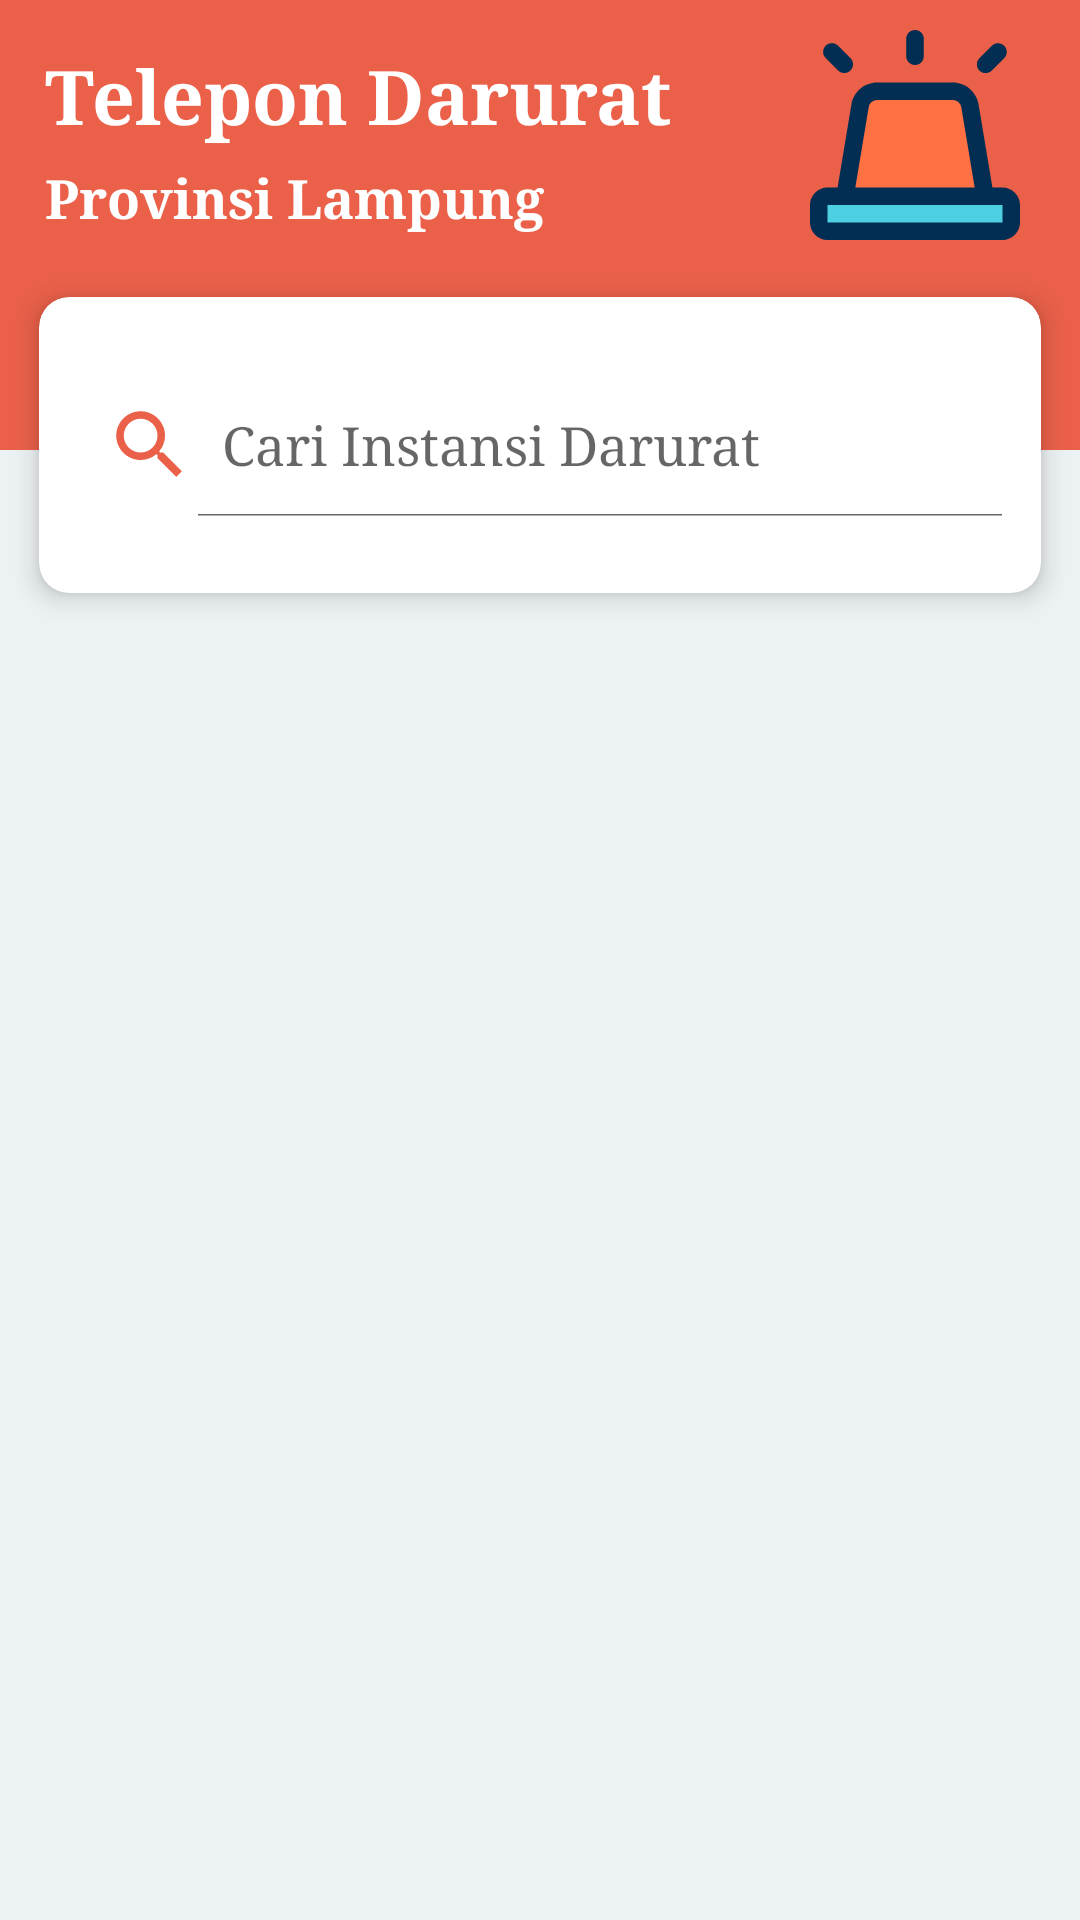

Named icons in this screenshot (1080x1920) and their bounding boxes, (x1, y1, x2, y2):
alarm: (810, 30, 1020, 240)
